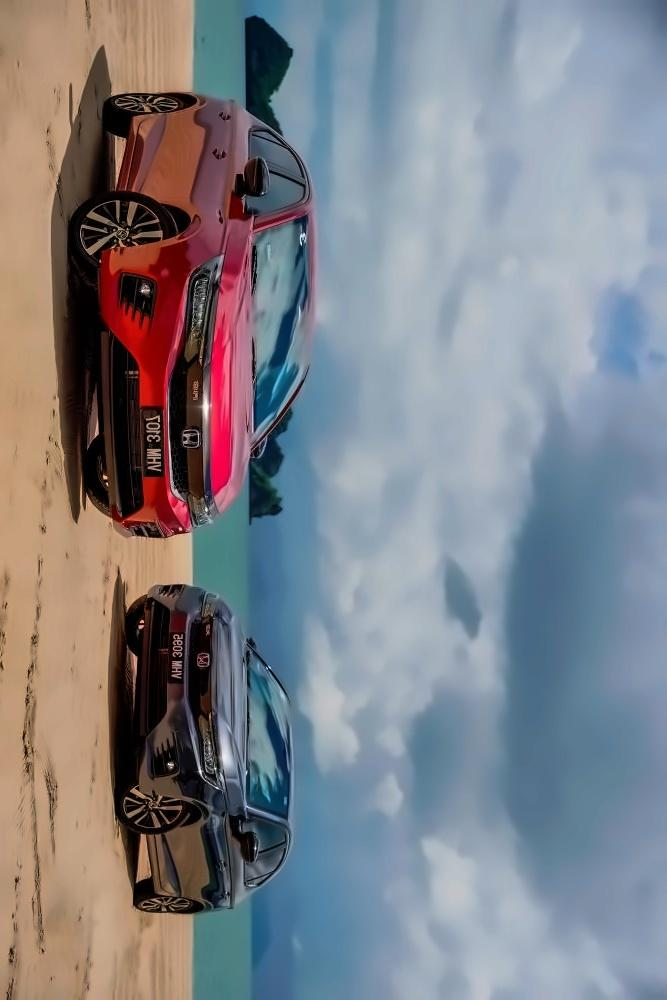Car hood: (204, 218, 266, 515)
Driver-s door - -F-R-: (119, 145, 317, 227)
Fender - -F-R-: (147, 205, 256, 268)
Front bumper: (91, 236, 193, 541)
Headlight - -L-: (187, 492, 221, 531)
Passenger-s door - -R-R-: (133, 109, 317, 180)
Rear light - -L-: (176, 252, 225, 368)
Side bumper - -R-: (112, 113, 166, 199)
Side mirror - -R-: (235, 153, 272, 204)
